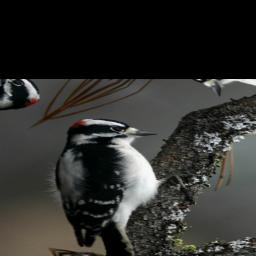Woodpecker: (0, 107, 256, 256)
